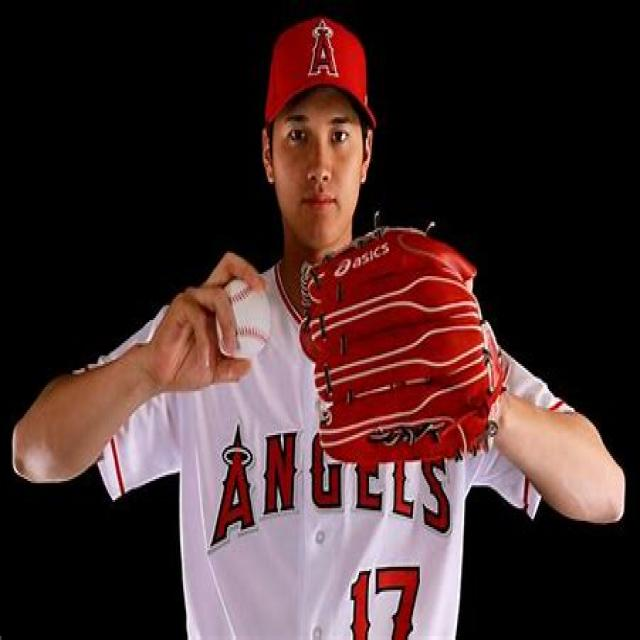ball: (217, 280, 272, 358)
glove: (297, 210, 517, 465)
